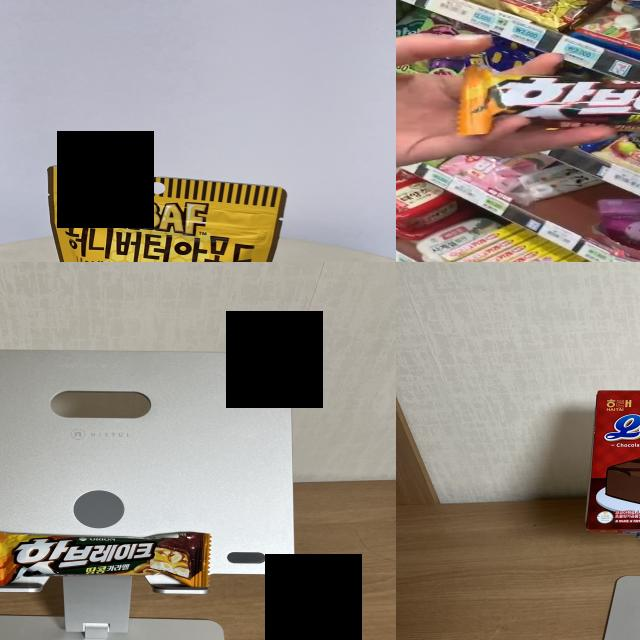honeyAmond: (46, 165, 289, 262)
hotBreak: (0, 531, 209, 588), (479, 80, 640, 127)
ohYes: (589, 390, 640, 533)
